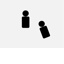human: (36, 19, 52, 39), (20, 8, 31, 29)
